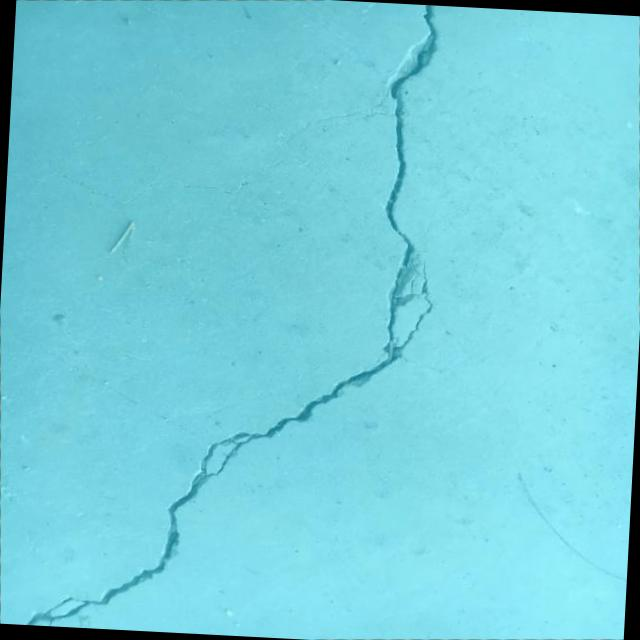crack: (0, 0, 505, 640), (6, 122, 288, 220)
